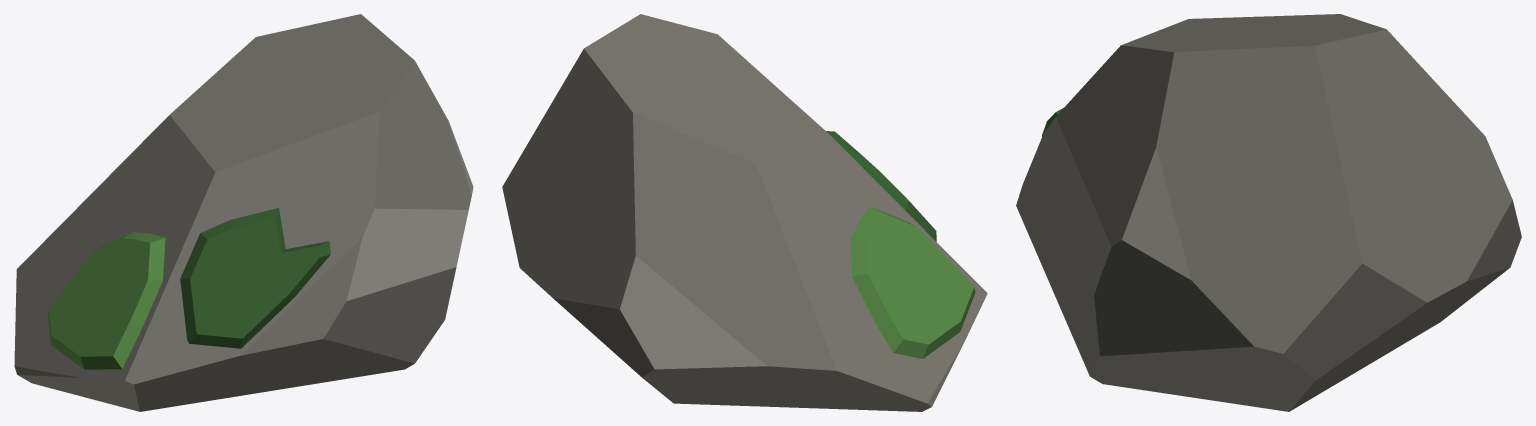
The model's file is medium-rock-e08405.glb.
3 renders of one model, left to right at view 1: azimuth 30°, elevation 25°; view 2: azimuth 150°, elevation 25°; view 3: azimuth 270°, elevation 25°, orthographic. The views are drawn at different scales.
Visible parts, largest first — view 1: rock; view 2: rock; view 3: rock.
Part boxes in pixels (<box>): rock: <box>14,14,473,411</box>; rock: <box>502,14,987,411</box>; rock: <box>1016,14,1521,411</box>.
Bounding box in the file's own units: 1 × 0.6289 × 0.7945.
